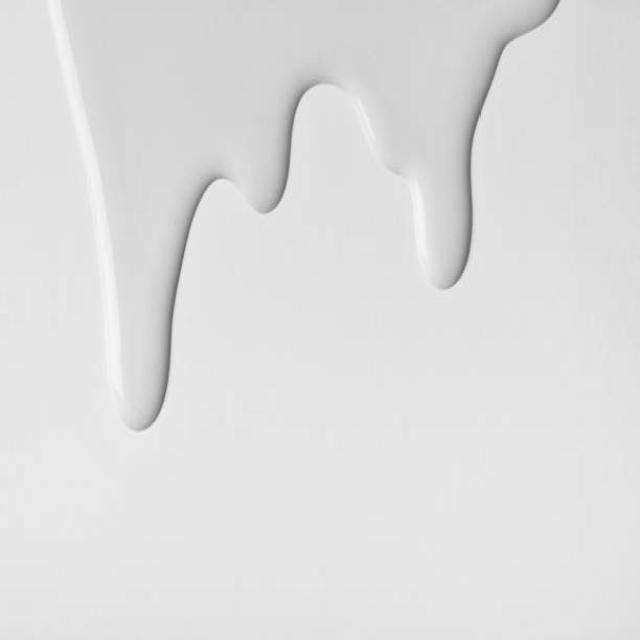paint drips: (55, 0, 564, 450)
